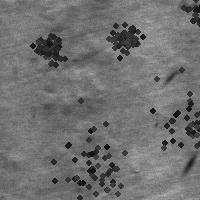rolled-in_scale: (36, 109, 150, 200), (133, 66, 200, 176), (26, 47, 95, 114), (102, 14, 146, 58), (26, 26, 66, 66), (174, 0, 200, 36)
